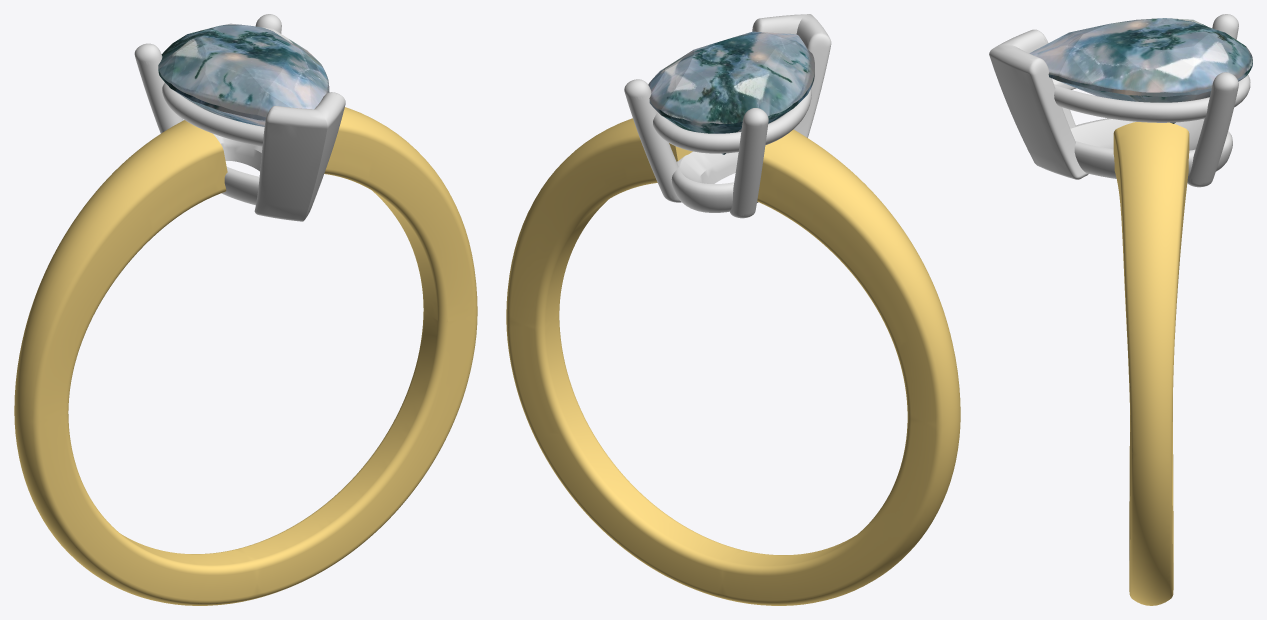
Rendered from mitchellRyanYG_webgi.glb.
3 renders of one model, left to right at view 1: azimuth 30°, elevation 25°; view 2: azimuth 150°, elevation 25°; view 3: azimuth 270°, elevation 25°, orthographic.
Parts seen in each view (by area): view 1: ryan_pt_for_3d_model005, moss_agate_as_a_stone_for_3d_model; view 2: ryan_pt_for_3d_model005, moss_agate_as_a_stone_for_3d_model; view 3: ryan_pt_for_3d_model005, moss_agate_as_a_stone_for_3d_model.
Boxes of the visible parts, box(x1,y1,x2,y2) form: ryan_pt_for_3d_model005: box(14, 14, 477, 605); moss_agate_as_a_stone_for_3d_model: box(158, 23, 329, 126); ryan_pt_for_3d_model005: box(506, 14, 960, 605); moss_agate_as_a_stone_for_3d_model: box(648, 31, 814, 154); ryan_pt_for_3d_model005: box(989, 14, 1250, 605); moss_agate_as_a_stone_for_3d_model: box(1029, 18, 1252, 123).
Size of the model in its own units: 2.49 by 2.87 by 1.25.
Materials: 3 (1 with a texture image).
